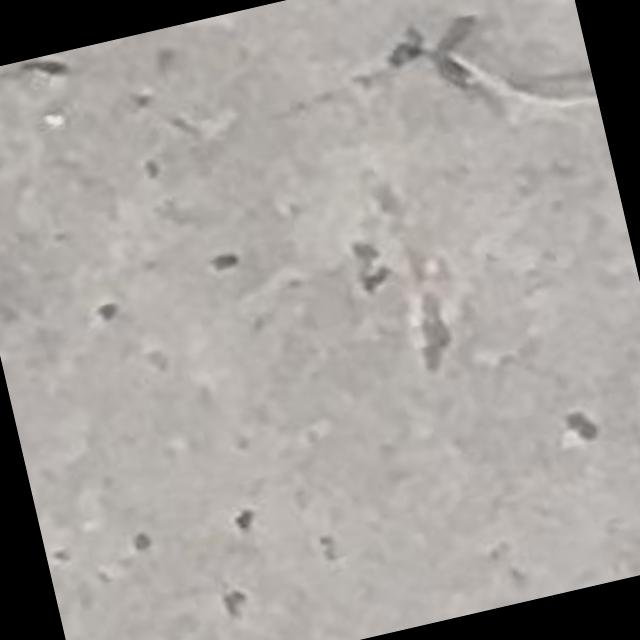crack: (404, 16, 597, 107)
